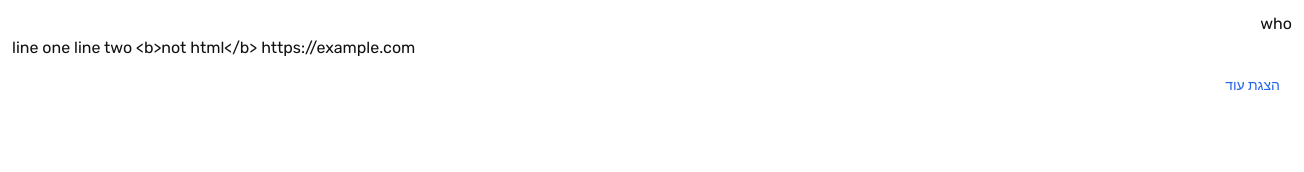
Test: ClampedText › ac7_toggle_only_when_overflowing
Later steps or results of the test are not shown.
Note: A click removes the clamp, expands and flips the label.
Click the button "הצגת עוד". click: {"x": 1253, "y": 86}
box: [1213,64,1292,108]
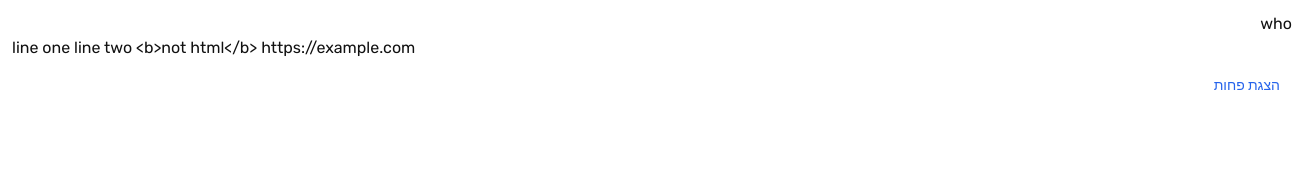
Expected: the button "הצגת פחות" is expanded
Note: And back.
Click the button "הצגת פחות". click: {"x": 1247, "y": 86}
box: [1202,64,1292,108]
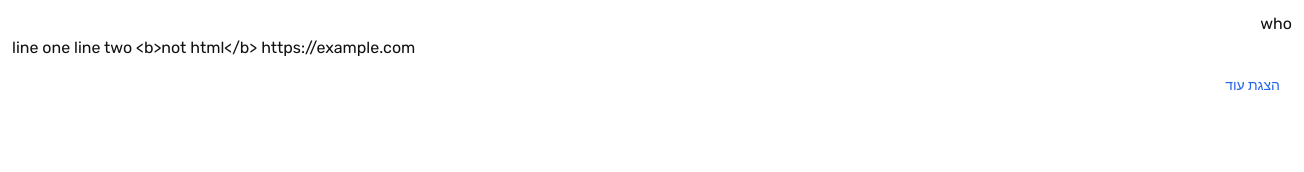
Expected: the button "הצגת עוד" is collapsed, [1213,64,1292,108]
